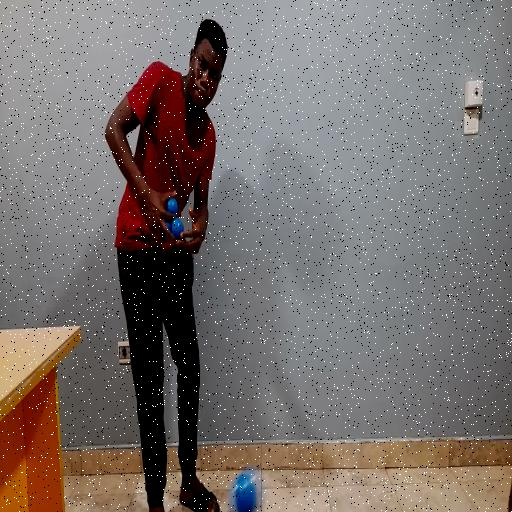plastic-ball: (227, 462, 266, 512)
